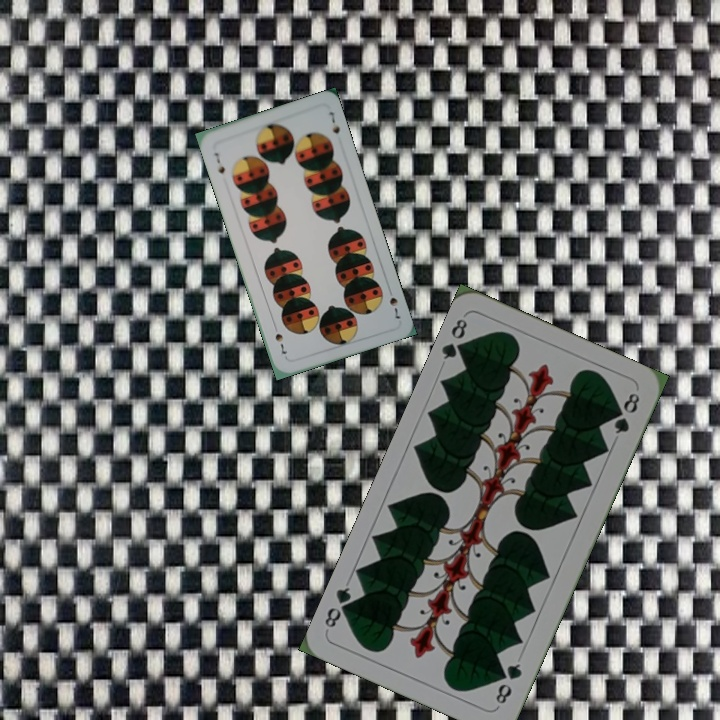G8: (438, 314, 472, 363), (491, 659, 525, 707)
S7: (384, 283, 403, 322), (210, 148, 227, 177)
